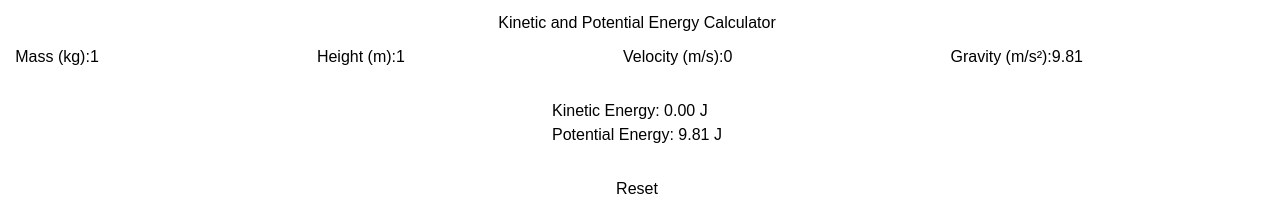
Test: Kinetic and Potential Energy Calculator › updates gravity and calculates energy correctly
Replace the text in the number field labelled "Gravity (m/s²):" with "5" at (1155, 57), box [1052,45,1259,69]
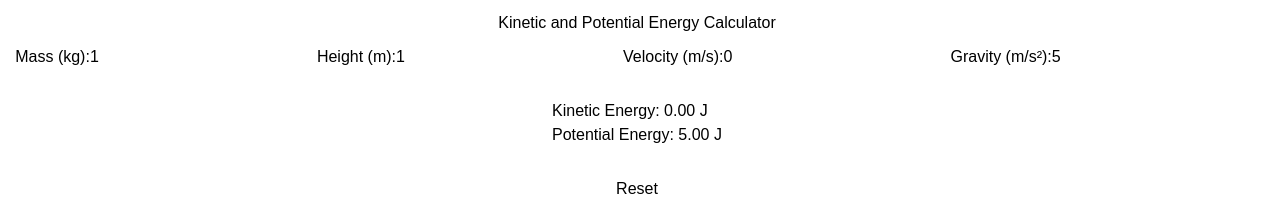
Check: the text "Kinetic Energy: 0.00 J" is shown, box [552,99,722,123]
Check: the text "Potential Energy: 5.00 J" is shown, box [552,123,722,147]
